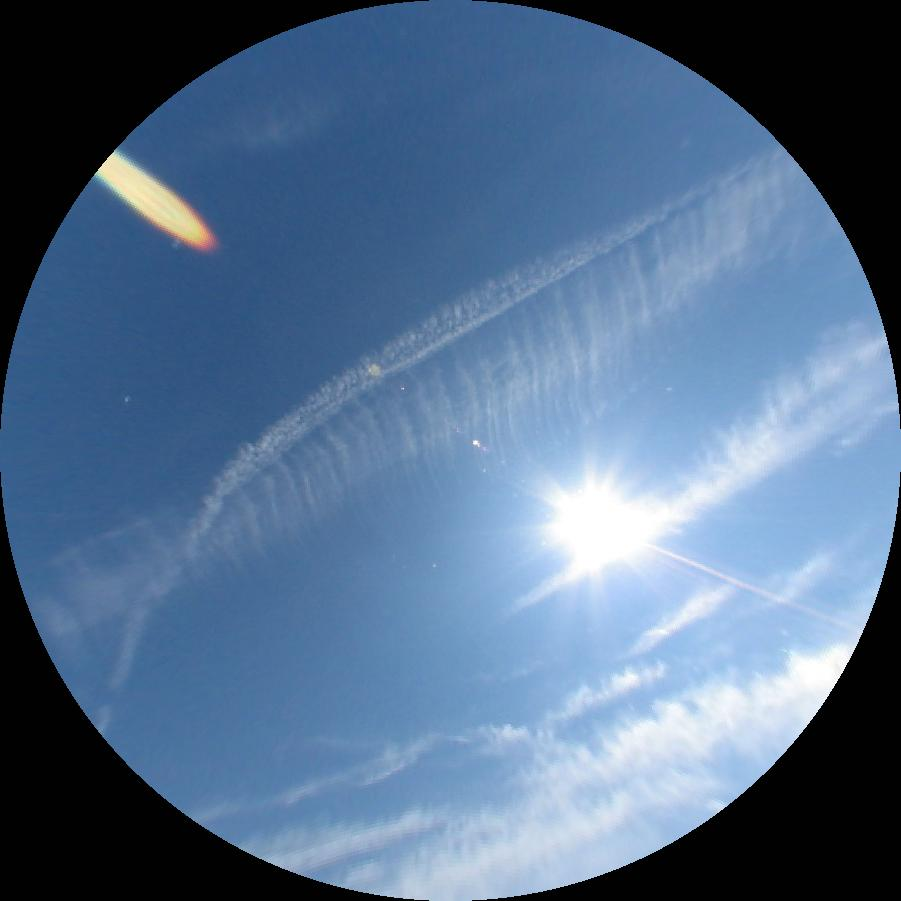contrail veryold: (94, 144, 791, 738), (18, 157, 837, 646), (500, 335, 897, 626)
parasite: (640, 540, 864, 635)
sun: (559, 499, 643, 558)
